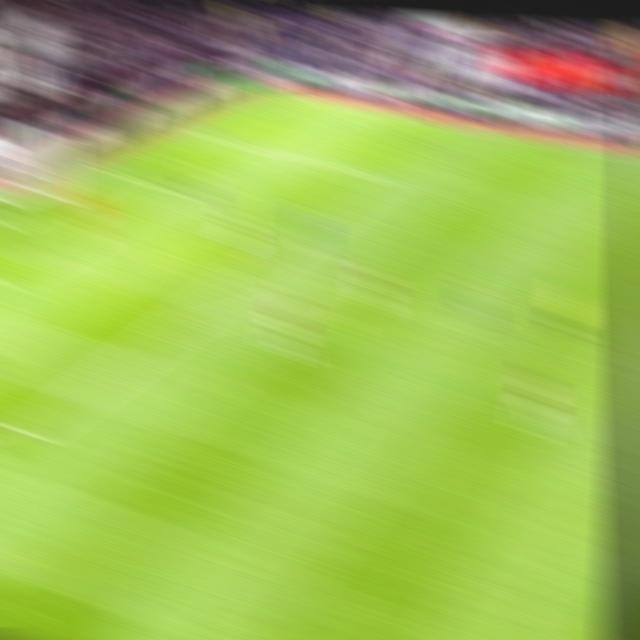bigarea_bottom_inner: (8, 416, 49, 450)
bigarea_top_inner: (362, 161, 399, 195)
bigarea_top_outter: (177, 125, 208, 144)
bottom_arc_area_intersection: (163, 304, 201, 340)
corner: (261, 88, 292, 103)
smallarea_top_inner: (159, 178, 188, 204)
smallarea_top_outter: (94, 163, 123, 187)
